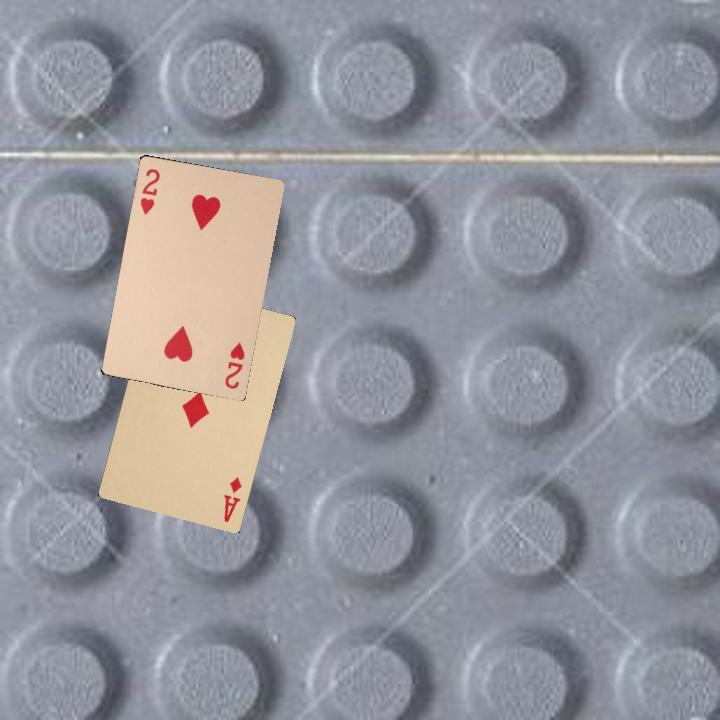2h: (220, 338, 247, 392), (136, 164, 163, 217)
Ad: (220, 473, 245, 525)
